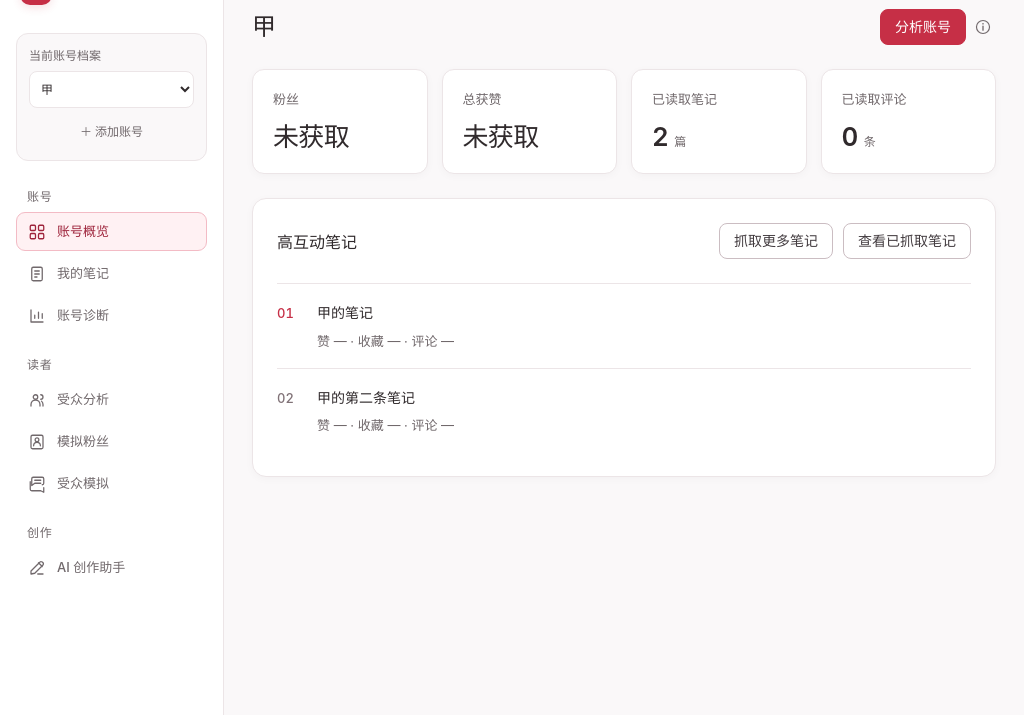
public creator journey › updates the history list status when reopening a simulation completed after refresh
Check: the text "甲的笔记" is shown, box [317,304,373,321]
Click the button "受众模拟": (112,484) [16,464,207,503]
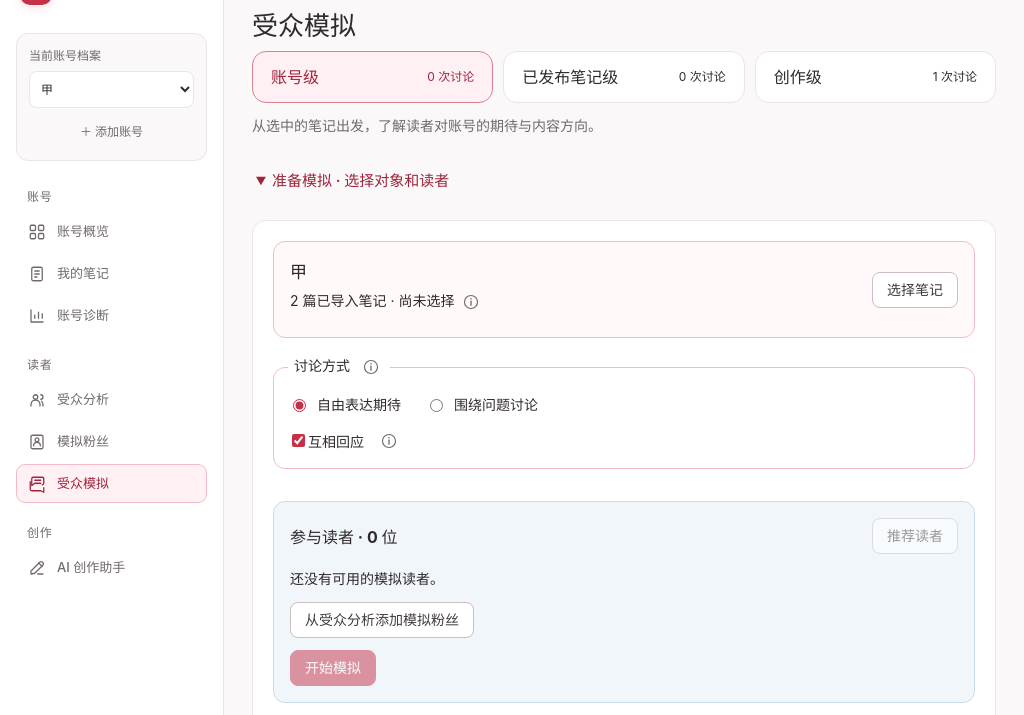
Click the tab "创作级 1 次讨论": (875,77) [755,51,996,103]
(page scrolled)
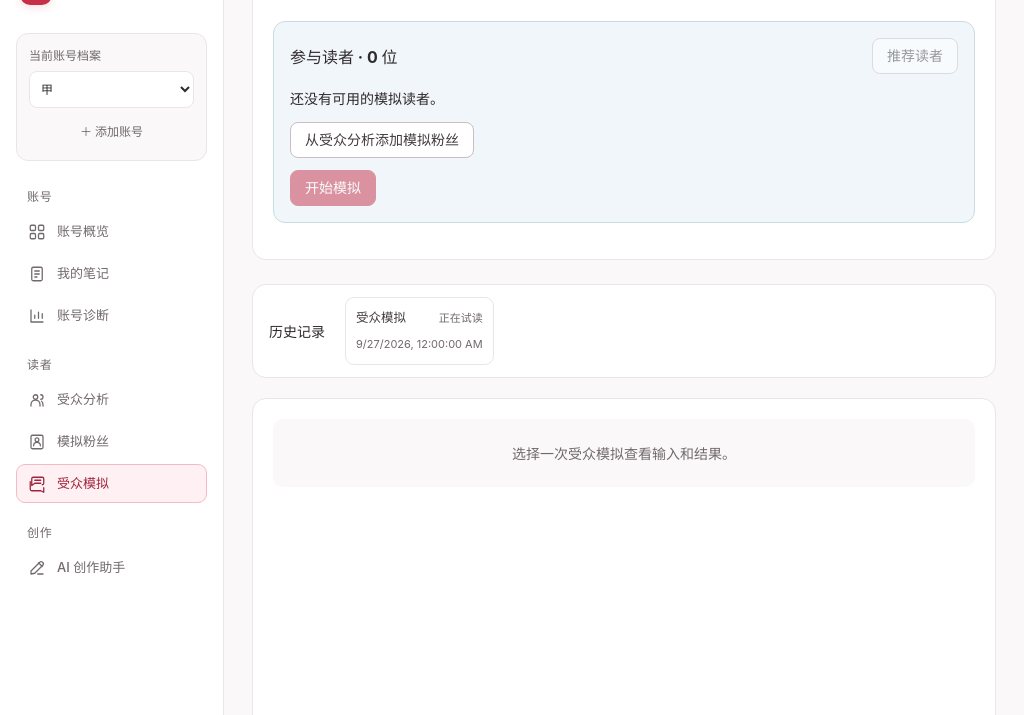
Click the button "受众模拟 正在试读 9/27/2026, 12:00:00 AM": (419,331) [345,297,494,365]
(page scrolled)
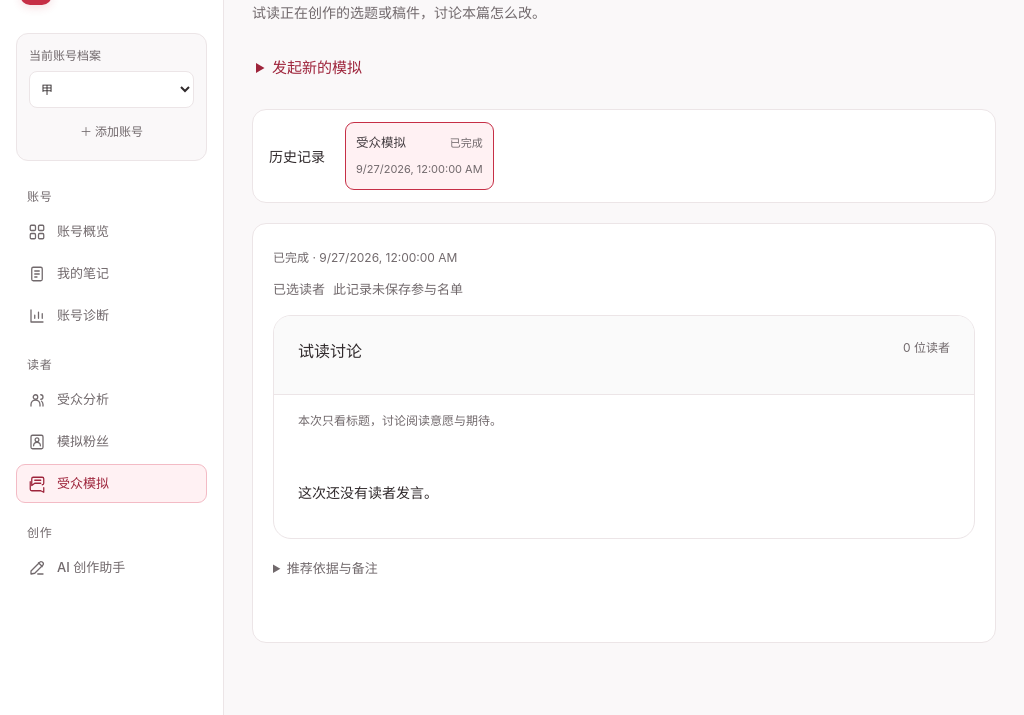
Check: the button "受众模拟 已完成 9/27/2026, 12:00:00 AM" is shown, box [345,122,494,190]
Check: the button "受众模拟 正在试读" is gone
